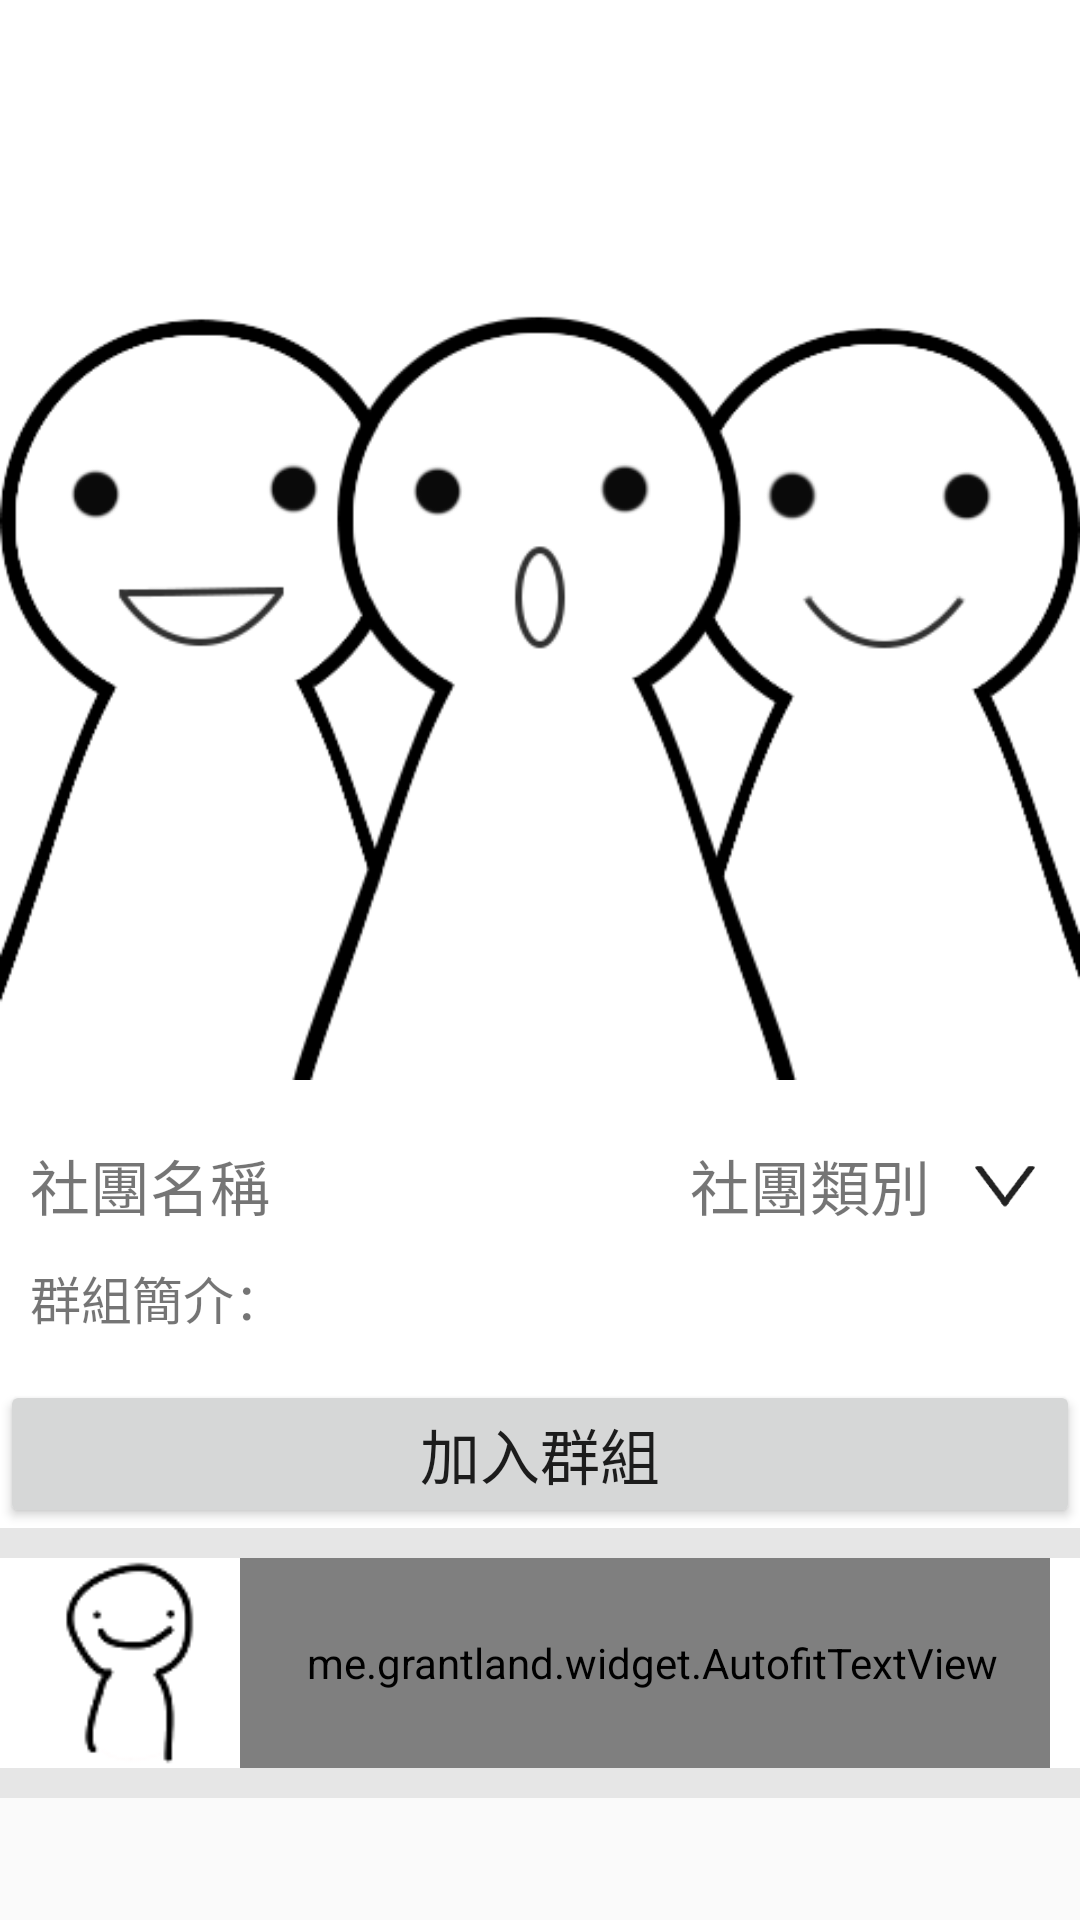

Icons on this 1080 x 1920 Android screen, each with the point to tap as [x,y]:
defaultmimg: [135,1663]
